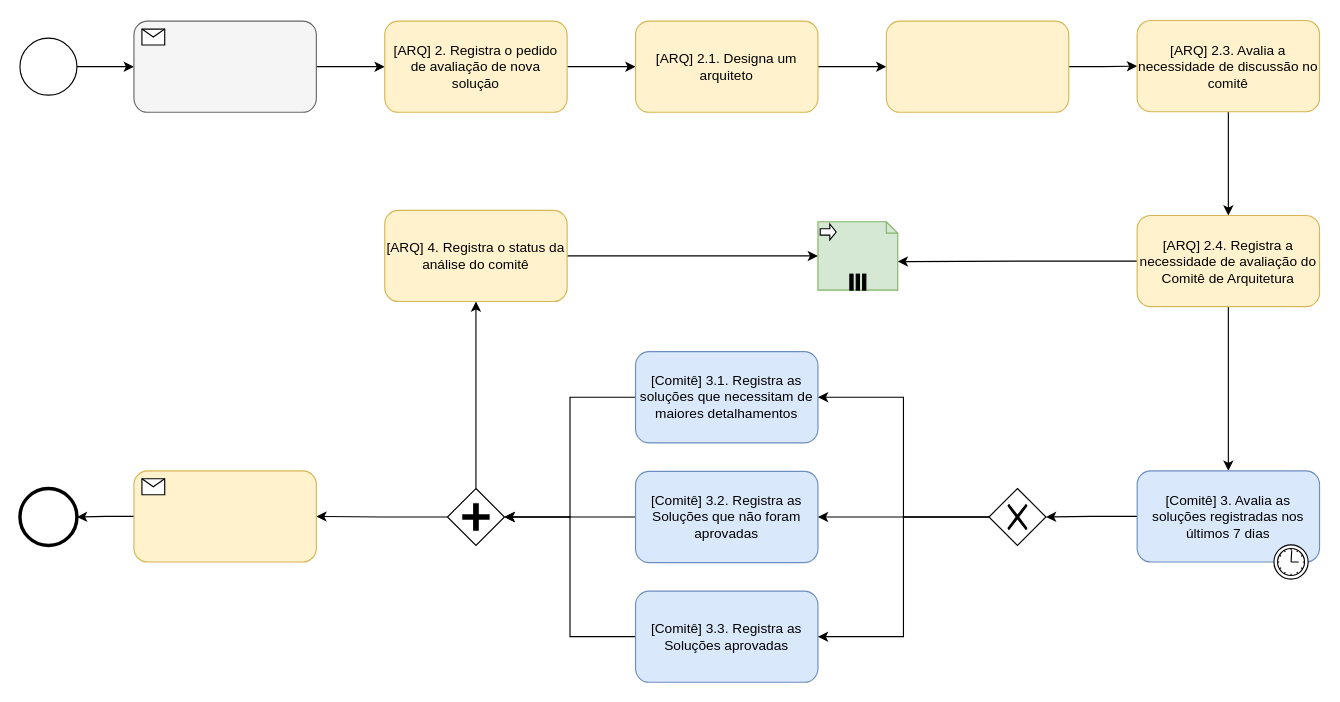
The diagram is 1340 pixels wide and 702 high, and some of its shapes have lost their labels. The centre of each missing label's shape, as x and y in pixels:
"[AN] 1. Solicita uma nova solução para Arquitetura" belongs at point 224,66.
"[ARQ] 2.2. Faz o desenho macro da solução" belongs at point 977,66.
"[ARQ] 5. Devolve para a área de negócio a análise da sua solução" belongs at point 224,516.
"XLS" belongs at point 857,255.
